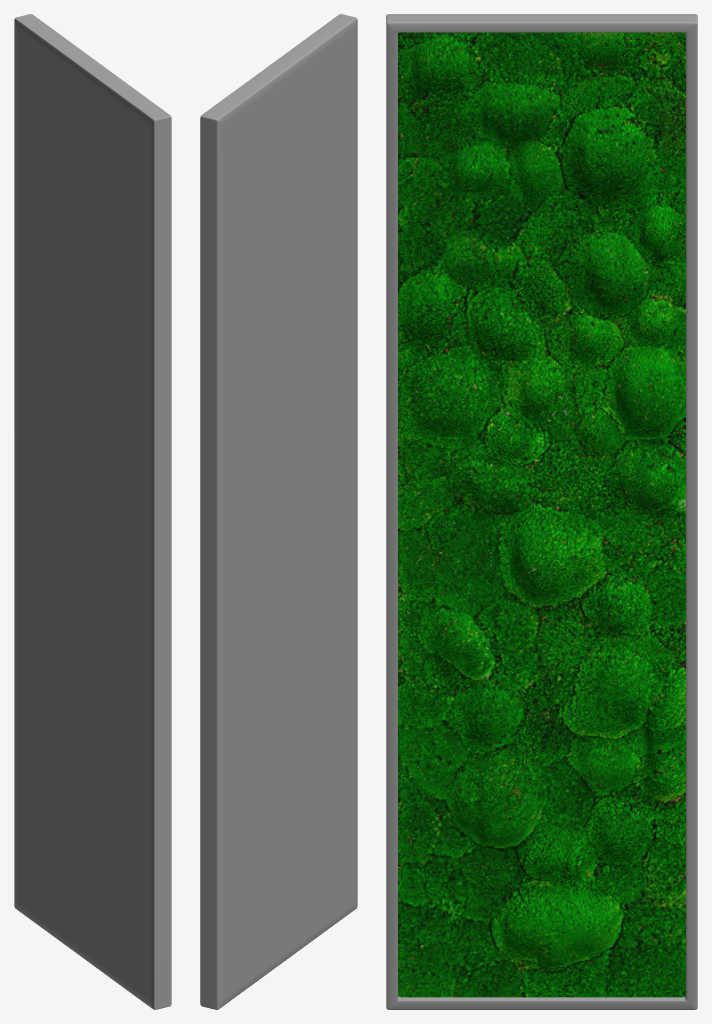
The model's file is tablo_140x40_Hugelmoos.fbx.
3 renders of one model, left to right at view 1: azimuth 30°, elevation 25°; view 2: azimuth 150°, elevation 25°; view 3: azimuth 270°, elevation 25°, orthographic. The views are drawn at different scales.
Visible parts, largest first — view 1: edge; view 2: edge; view 3: moss_, moss_low, edge.
Boxes of the visible parts, bbox=[...] form: edge: bbox=[14, 14, 171, 1009]; edge: bbox=[200, 14, 357, 1009]; moss_: bbox=[398, 32, 685, 997]; moss_low: bbox=[398, 32, 685, 997]; edge: bbox=[386, 14, 697, 1009].
Bounding box in the file's own units: 4.48 × 140 × 40.
